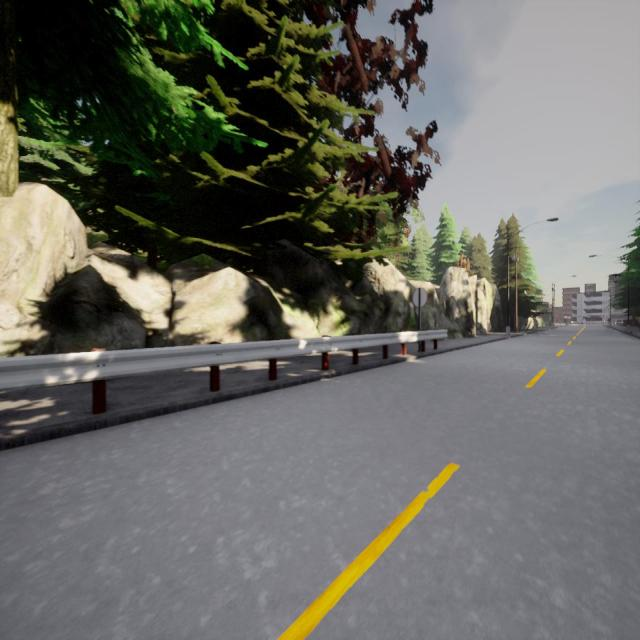Traffic_Signs: (412, 289, 427, 308)
